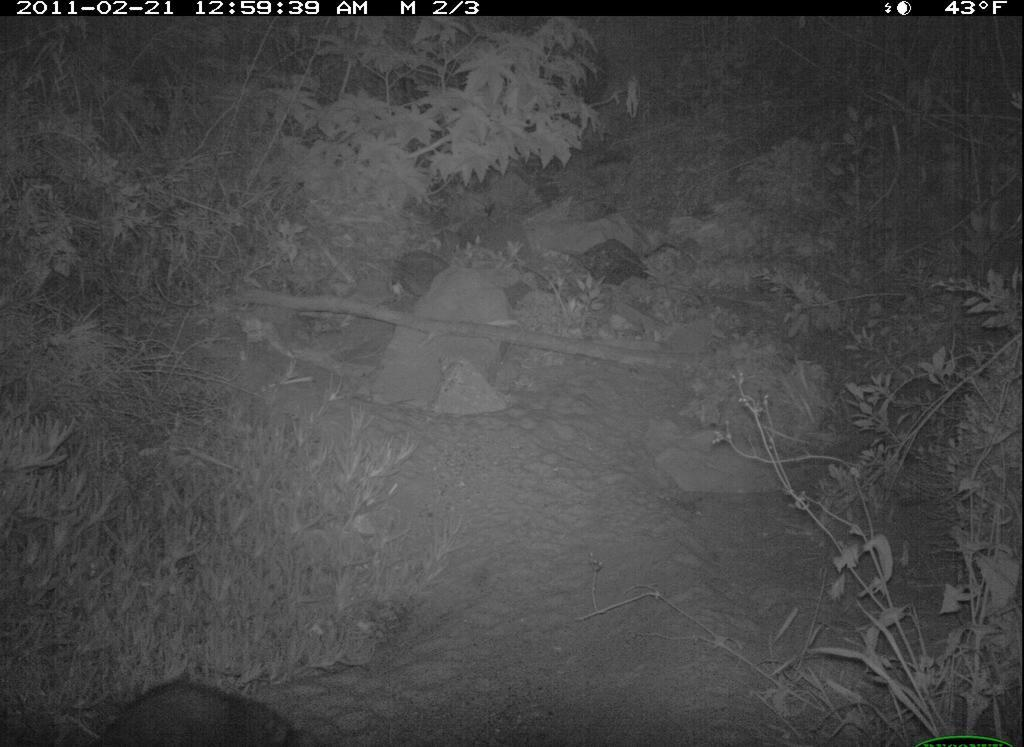raccoon: (90, 671, 287, 745)
